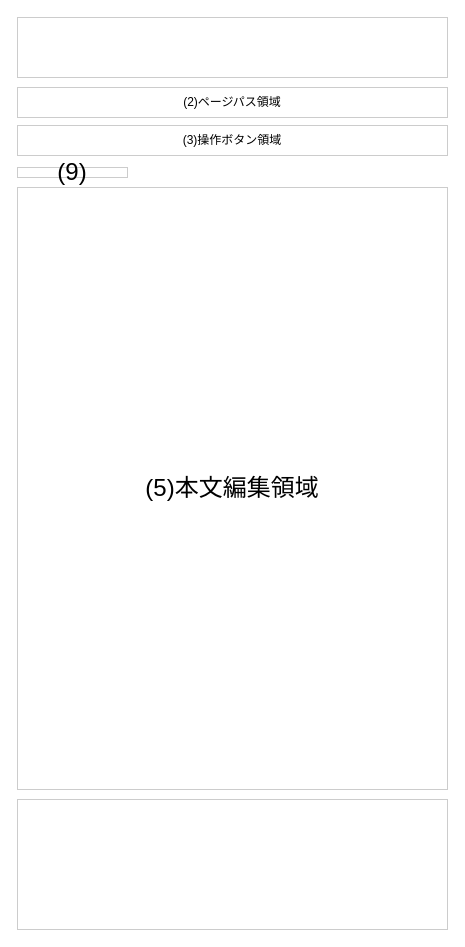
Some shapes in this 465 by 947 pixel diagram are drawn without their labels. The shapes that lost their labels are listed below. From the top down, each one's centre as x and y in pixels, then its label:
At (x=232, y=47): "(1)ページタイトル領域".
At (x=232, y=864): "(6)アセット一覧".
